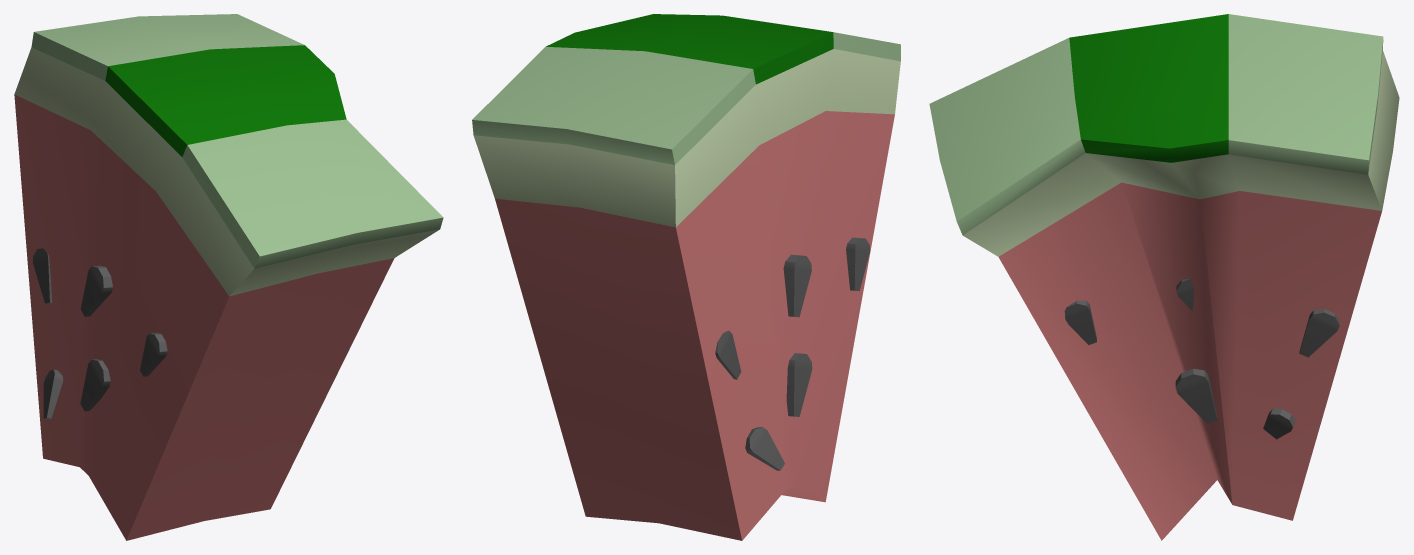
Rendered from Chunk01.fbx.
3 renders of one model, left to right at view 1: azimuth 30°, elevation 25°; view 2: azimuth 150°, elevation 25°; view 3: azimuth 270°, elevation 25°, orthographic. The views are drawn at different scales.
Parts seen in each view (by area): view 1: Chonk_01; view 2: Chonk_01; view 3: Chonk_01.
Boxes of the visible parts, bbox=[...] form: Chonk_01: bbox=[14, 14, 443, 540]; Chonk_01: bbox=[472, 14, 900, 540]; Chonk_01: bbox=[929, 14, 1399, 540].
Size of the model in its own units: 6.5 by 11.27 by 10.39.
